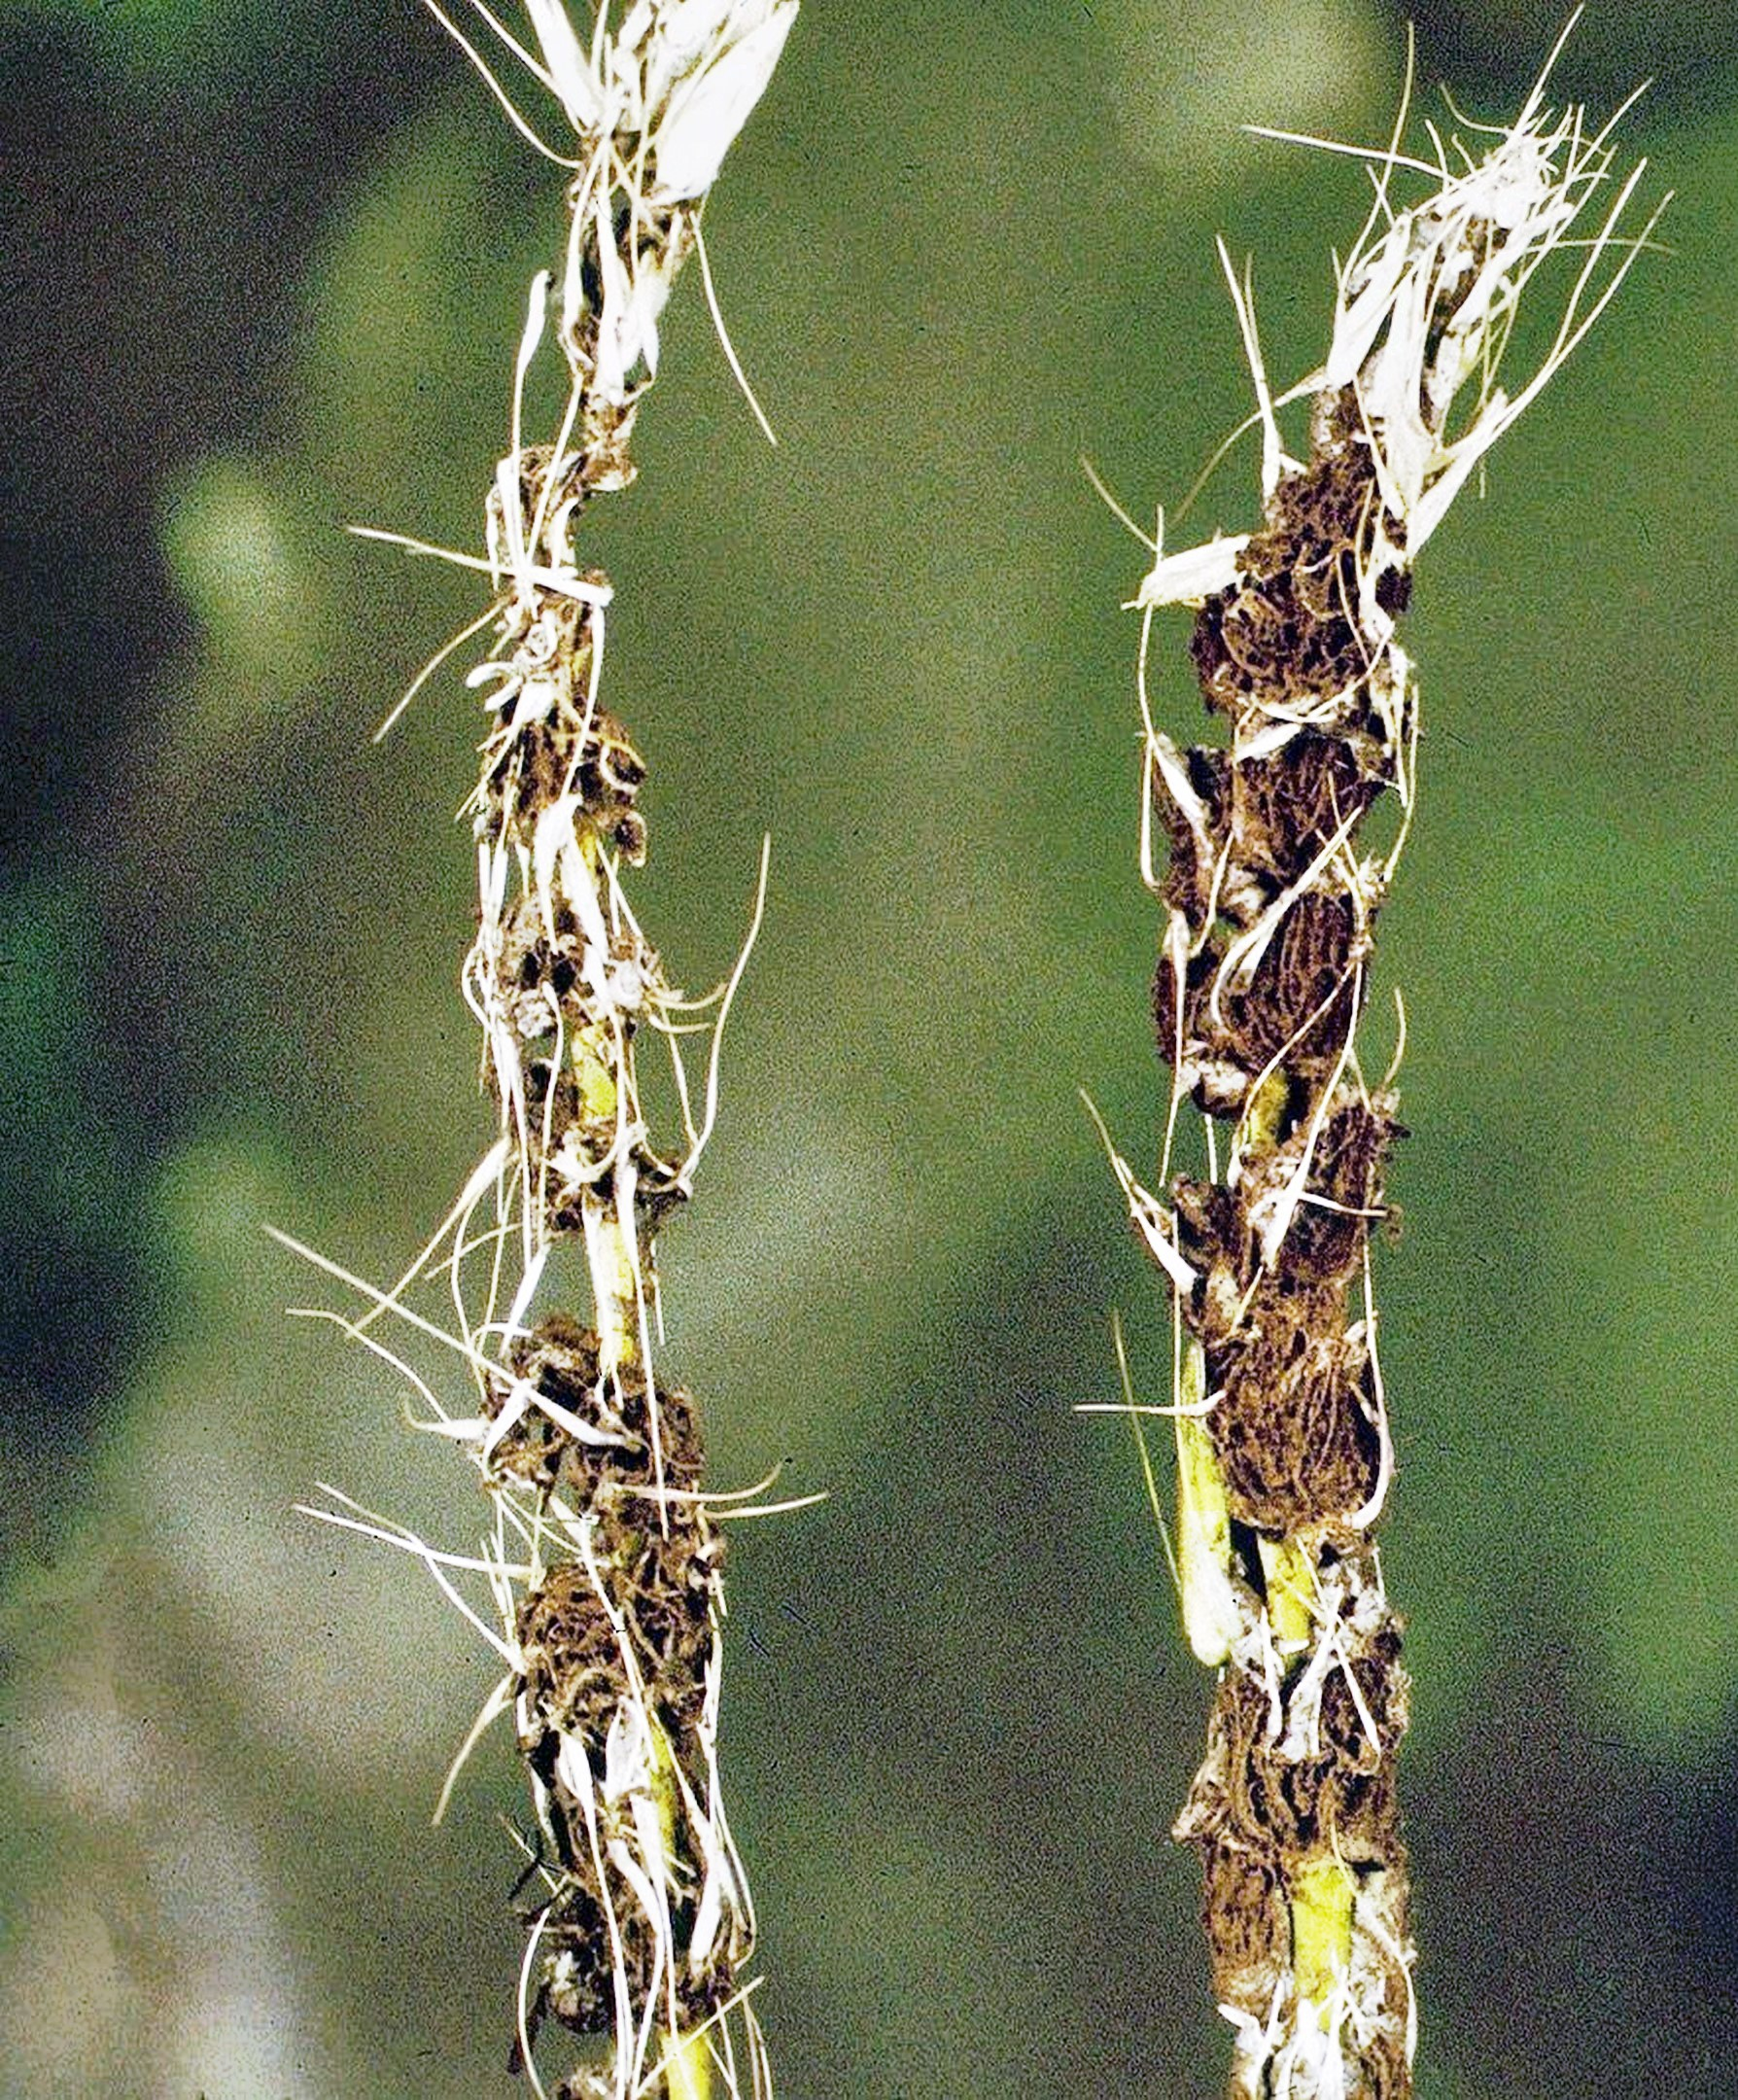Wheat Loose Smut: (1053, 331, 1548, 1960)
